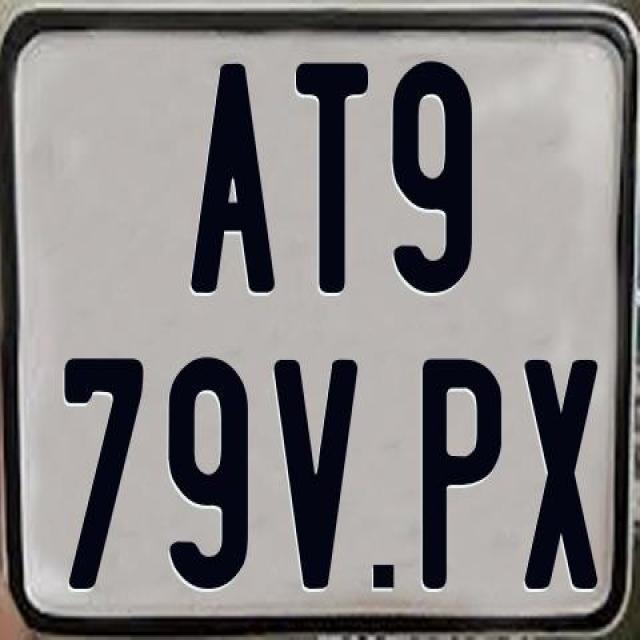7: (60, 354, 146, 590)
9: (388, 60, 471, 302), (166, 355, 250, 592)
A: (189, 62, 280, 296)
P: (418, 358, 501, 596)
T: (294, 58, 370, 292)
V: (273, 358, 364, 592)
X: (524, 357, 598, 589)
